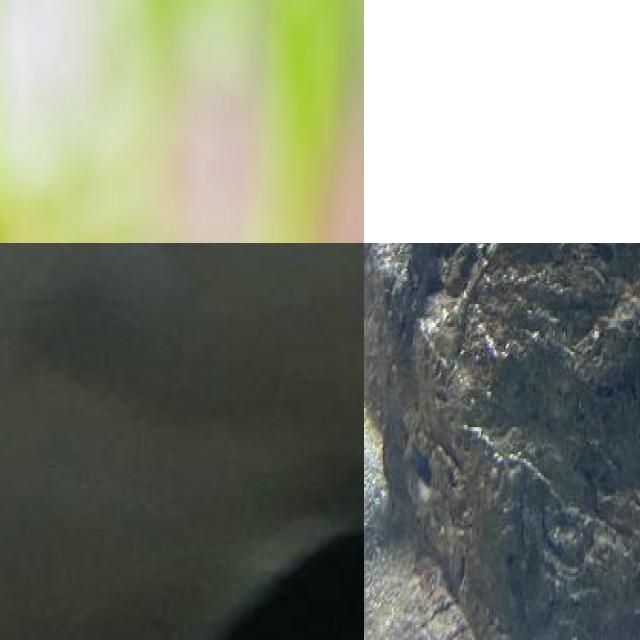fish: (0, 243, 364, 640), (0, 0, 364, 243), (364, 0, 640, 243)
